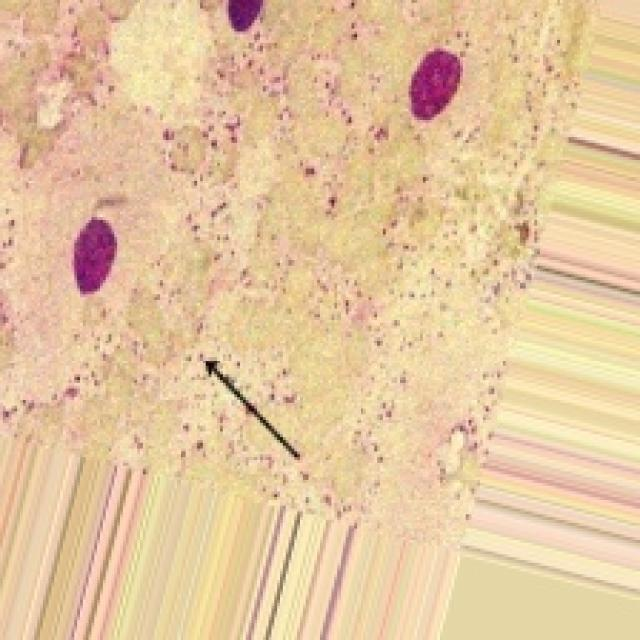Spherical_bacteria: (0, 0, 594, 548)
